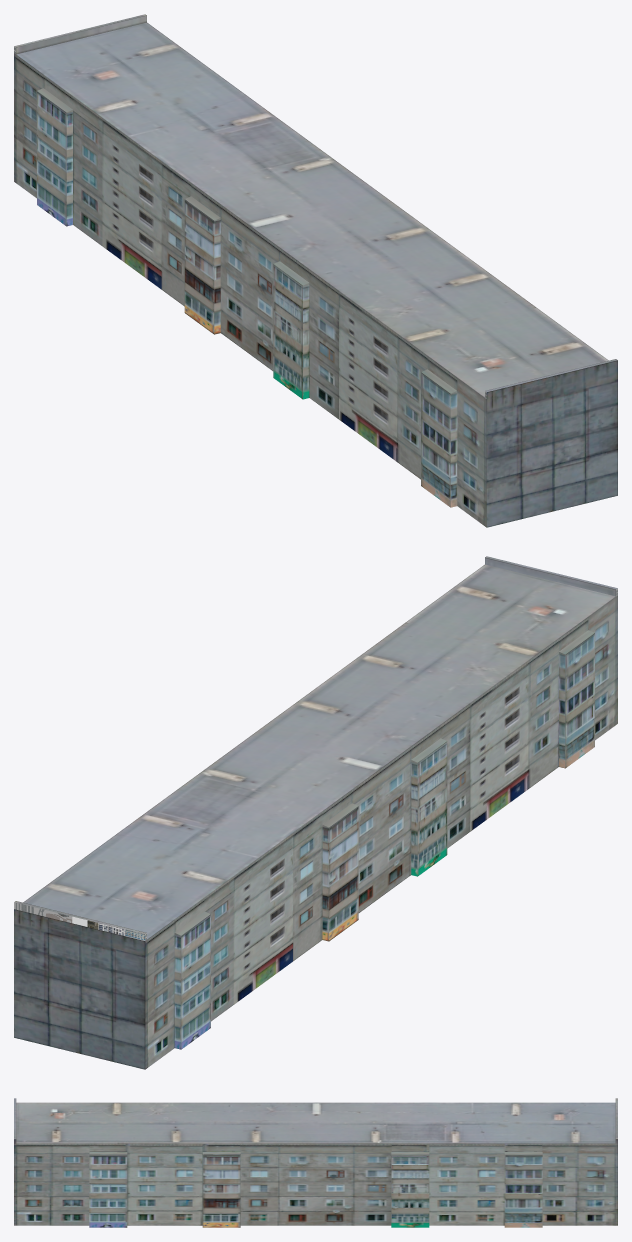
Rendered from dom1.glb.
The picture shows the model from 3 angles, top to bottom: view 1: azimuth 30°, elevation 25°; view 2: azimuth 150°, elevation 25°; view 3: azimuth 270°, elevation 25°; orthographic projection. The views are drawn at different scales.
Parts seen in each view (by area): view 1: Cube.001; view 2: Cube.001; view 3: Cube.001.
Boxes of the visible parts, x1,y1,x2,y2 form: Cube.001: [14, 14, 617, 527]; Cube.001: [14, 556, 617, 1069]; Cube.001: [14, 1098, 617, 1227].
Bounding box in the file's own units: 2.2 × 1.97 × 12.48.
1 material, 1 textured.
